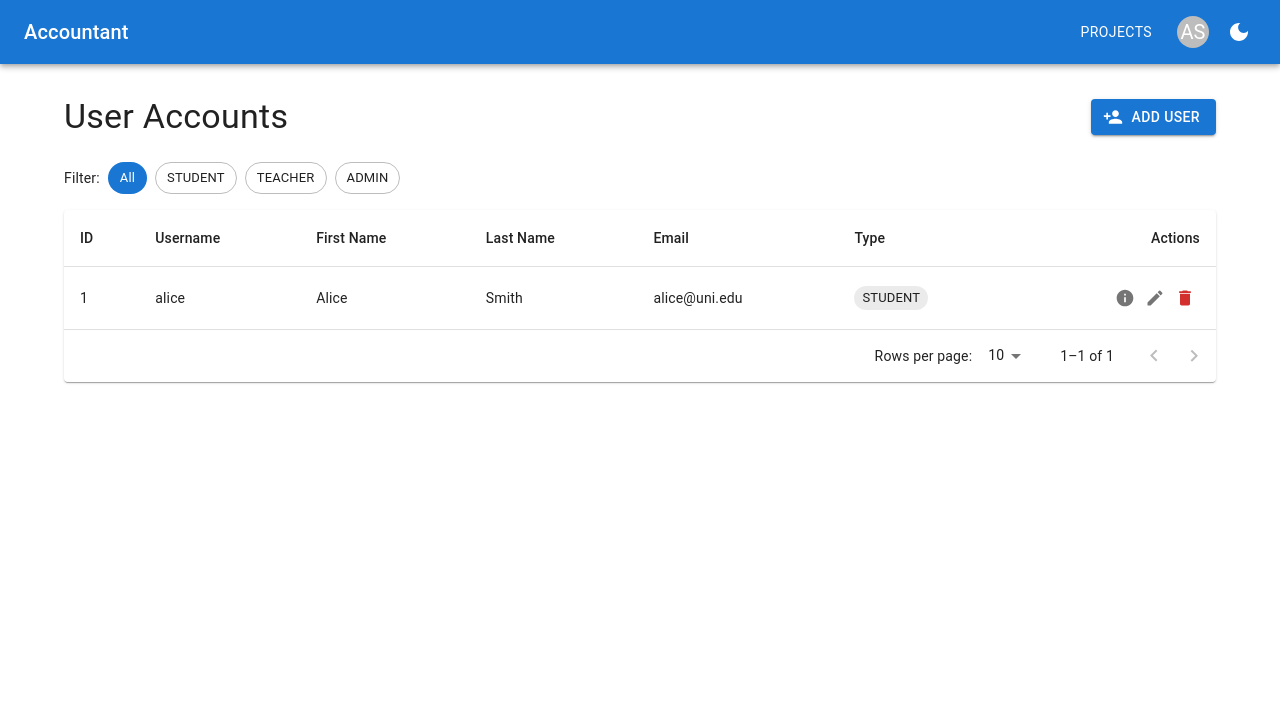
Users page › opens the create modal from the Add User button
The image size is (1280, 720).
Expected: the heading "User Accounts" is shown, [64,96,288,138]
Click the button "Add User" at (1154, 117), box [1092,99,1216,135]
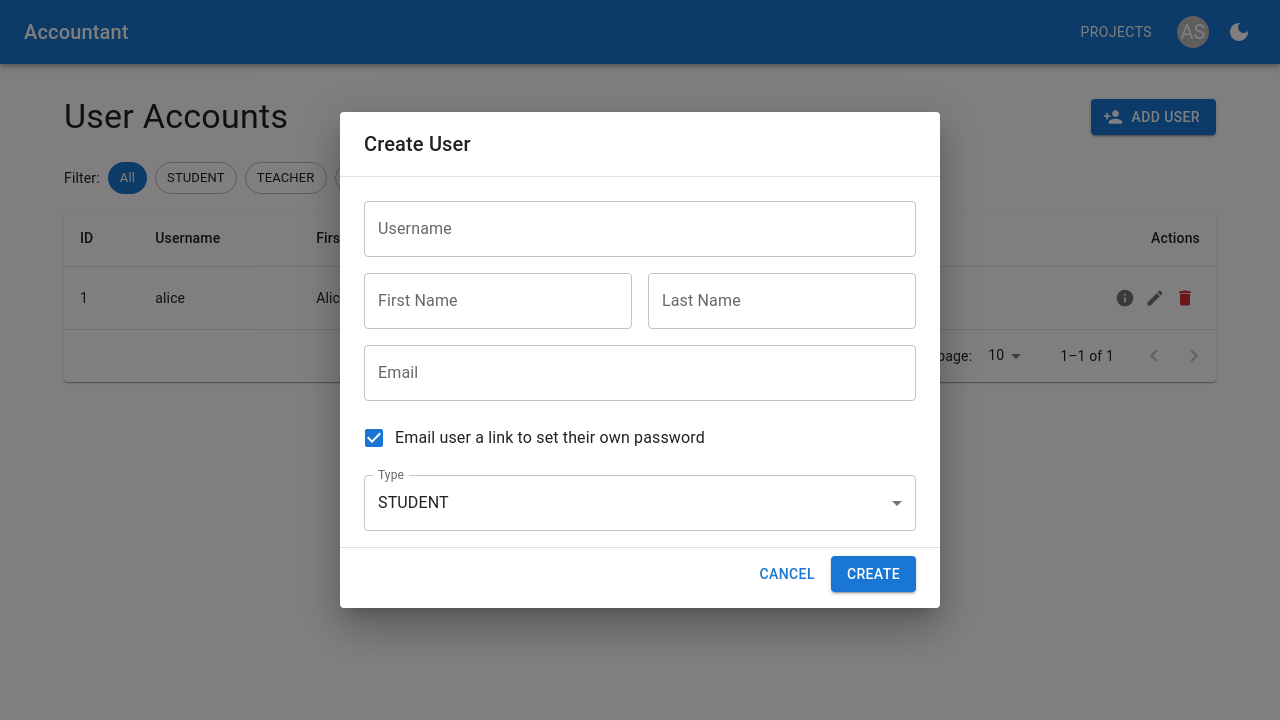
Expected: the heading "Create User" is shown, [364,132,471,156]
